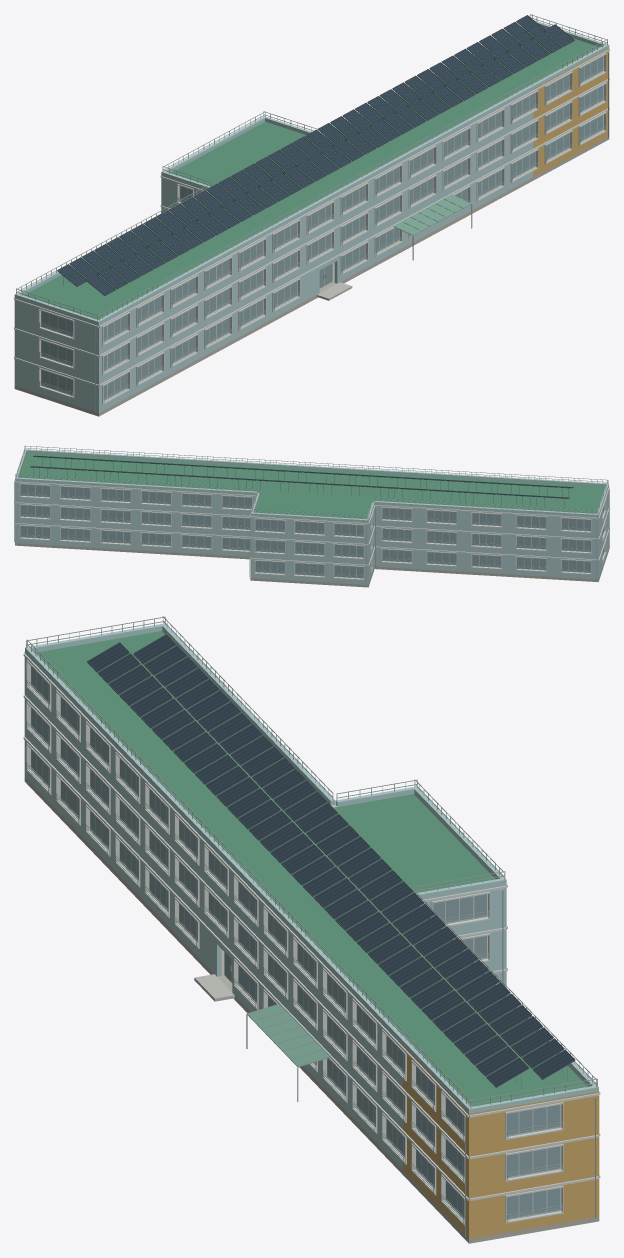
3 views of the same model, one above another, from view 1: azimuth 30°, elevation 25°; view 2: azimuth 150°, elevation 25°; view 3: azimuth 270°, elevation 25° (orthographic). The views are drawn at different scales.
Parts seen in each view (by area): view 1: middle__blue, middle__solar, middle__frame, middle__roof, middle__glass, middle__metal, middle__pvrail, middle__pvback, middle__yellow, middle__stone, middle__canopy; view 2: middle__blue, middle__roof, middle__glass, middle__frame, middle__metal, middle__stone, middle__pvrail, middle__pvback, middle__solar; view 3: middle__solar, middle__roof, middle__blue, middle__frame, middle__glass, middle__pvrail, middle__yellow, middle__metal, middle__pvback, middle__stone, middle__canopy.
Part boxes in pixels (x1,y1,x2,y2): middle__blue: (14, 20, 609, 412); middle__solar: (58, 16, 573, 294); middle__frame: (14, 48, 609, 404); middle__roof: (24, 29, 599, 319); middle__glass: (41, 56, 603, 399); middle__metal: (16, 14, 608, 412); middle__pvrail: (57, 15, 574, 295); middle__pvback: (57, 15, 574, 295); middle__yellow: (533, 28, 609, 176); middle__stone: (14, 136, 609, 416); middle__canopy: (394, 194, 471, 235); middle__blue: (15, 449, 608, 584); middle__roof: (19, 452, 604, 519); middle__glass: (20, 484, 604, 577); middle__frame: (14, 479, 609, 580); middle__metal: (14, 445, 609, 584); middle__stone: (15, 543, 608, 587); middle__pvrail: (30, 455, 573, 498); middle__pvback: (30, 456, 573, 498); middle__solar: (31, 456, 572, 498); middle__solar: (88, 635, 573, 1086); middle__roof: (36, 631, 587, 1106); middle__blue: (24, 623, 598, 1169); middle__frame: (23, 653, 600, 1225); middle__glass: (31, 666, 560, 1218); middle__pvrail: (87, 634, 574, 1087); middle__yellow: (403, 1045, 599, 1238); middle__metal: (26, 616, 597, 1237); middle__pvback: (87, 635, 575, 1087); middle__stone: (24, 777, 599, 1243); middle__canopy: (247, 1004, 329, 1066).
Size of the model in its own units: 85.24 by 12.49 by 42.65.
13 materials, 1 textured.
